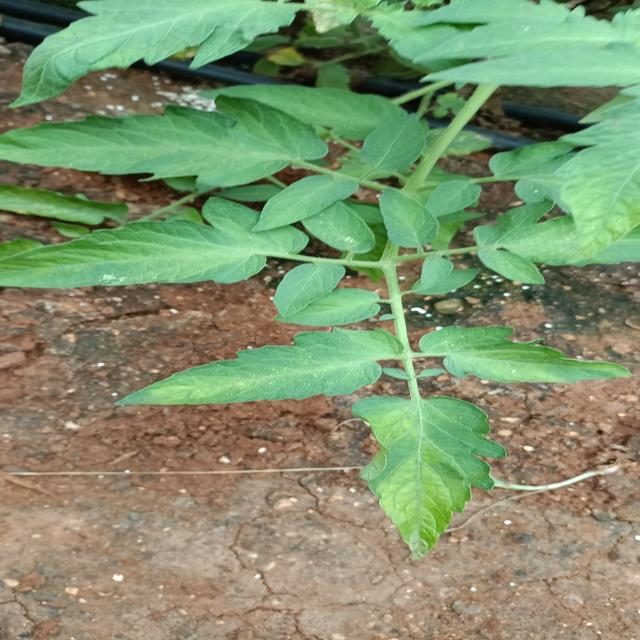Healthy Leaf: (344, 387, 513, 571), (7, 202, 310, 296), (90, 318, 400, 407), (426, 320, 628, 393)
